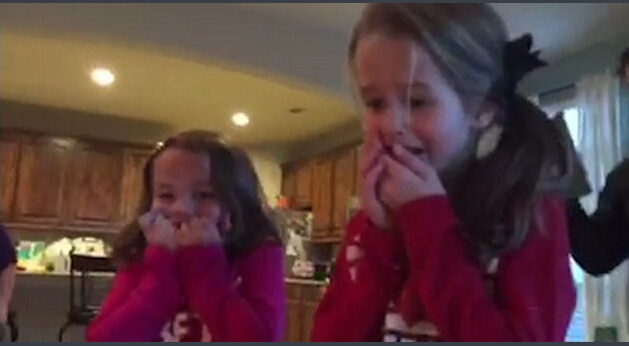face: (356, 45, 463, 175), (147, 151, 218, 253)
